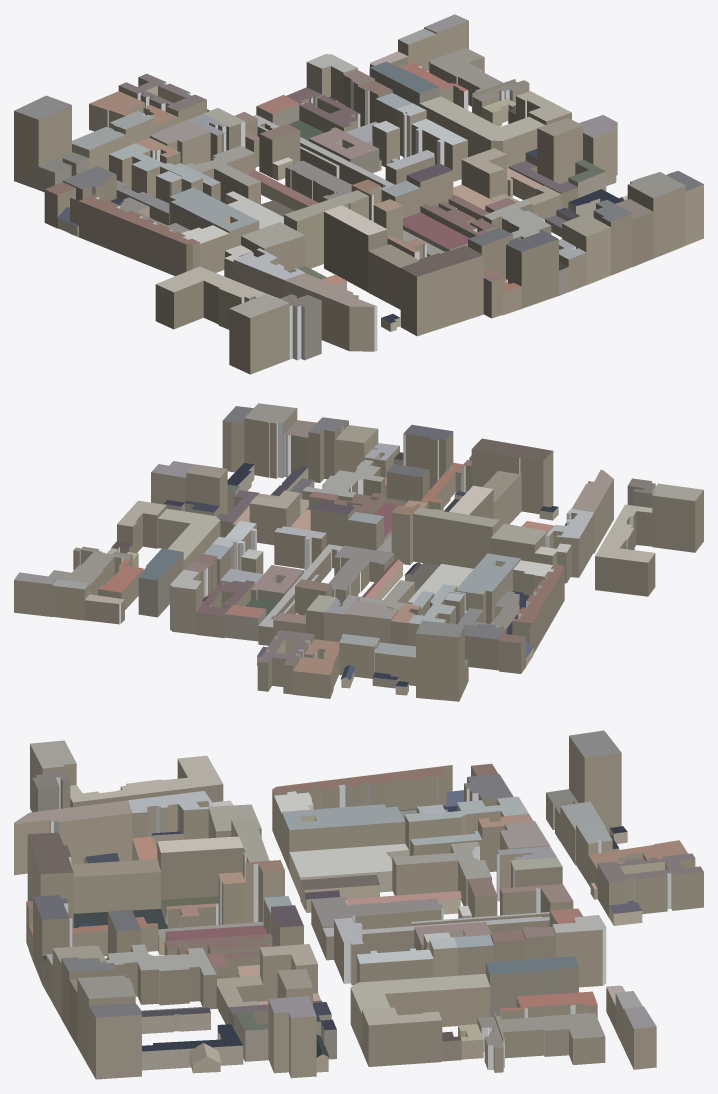
The picture shows the model from 3 angles, top to bottom: view 1: azimuth 30°, elevation 25°; view 2: azimuth 150°, elevation 25°; view 3: azimuth 270°, elevation 25°; orthographic projection. The views are drawn at different scales.
Visible parts, largest first — view 1: tuile; view 2: tuile; view 3: tuile.
Boxes of the visible parts, box(x1,y1,x2,y2) form: tuile: box(14, 14, 703, 374); tuile: box(14, 403, 703, 701); tuile: box(14, 730, 703, 1079).
Size of the model in its own units: 270 by 43.04 by 282.
